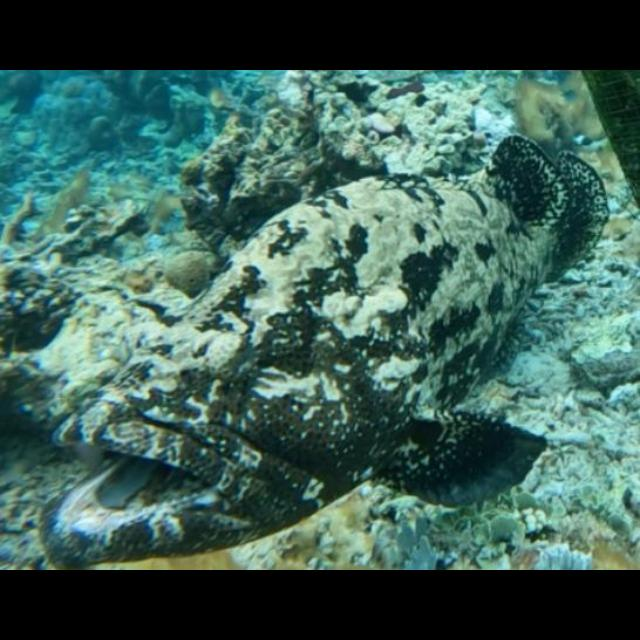Groupers: (44, 132, 608, 566)
